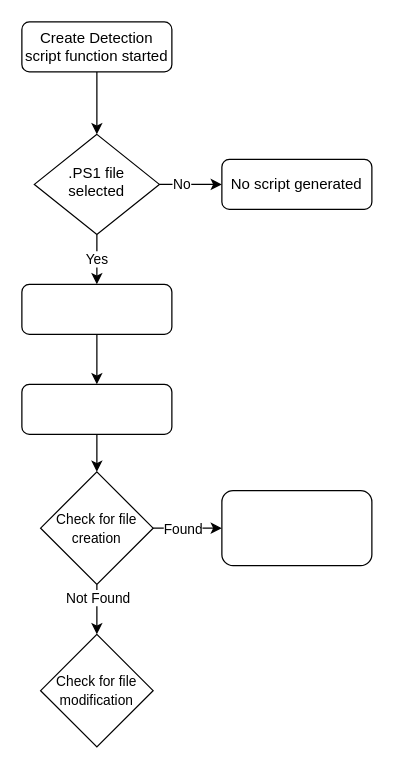
Some shapes in this 394 by 769 pixel diagram are drawn without their labels. The shapes that lost their labels are listed below. From the top down, each one's centre as x and y in pixels, then its label:
At pixel 96 308: "Load script into Array(?)".
At pixel 96 408: "Run through script line by line".
At pixel 296 527: "Add".
